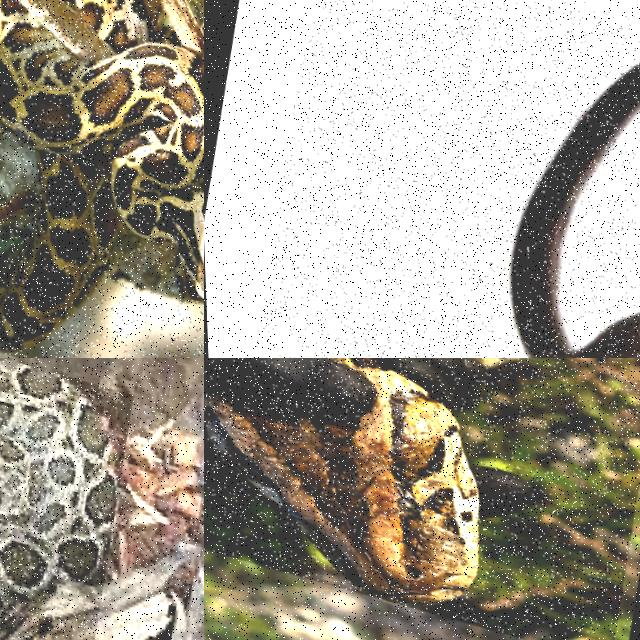Daboia siamensis: (0, 361, 117, 609)
Naja kaouthia: (512, 64, 639, 357)
Python bivittatus: (0, 0, 203, 351), (204, 358, 478, 603)
